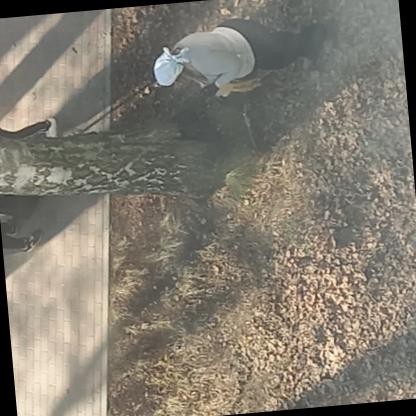Human Body: (150, 9, 333, 96)
